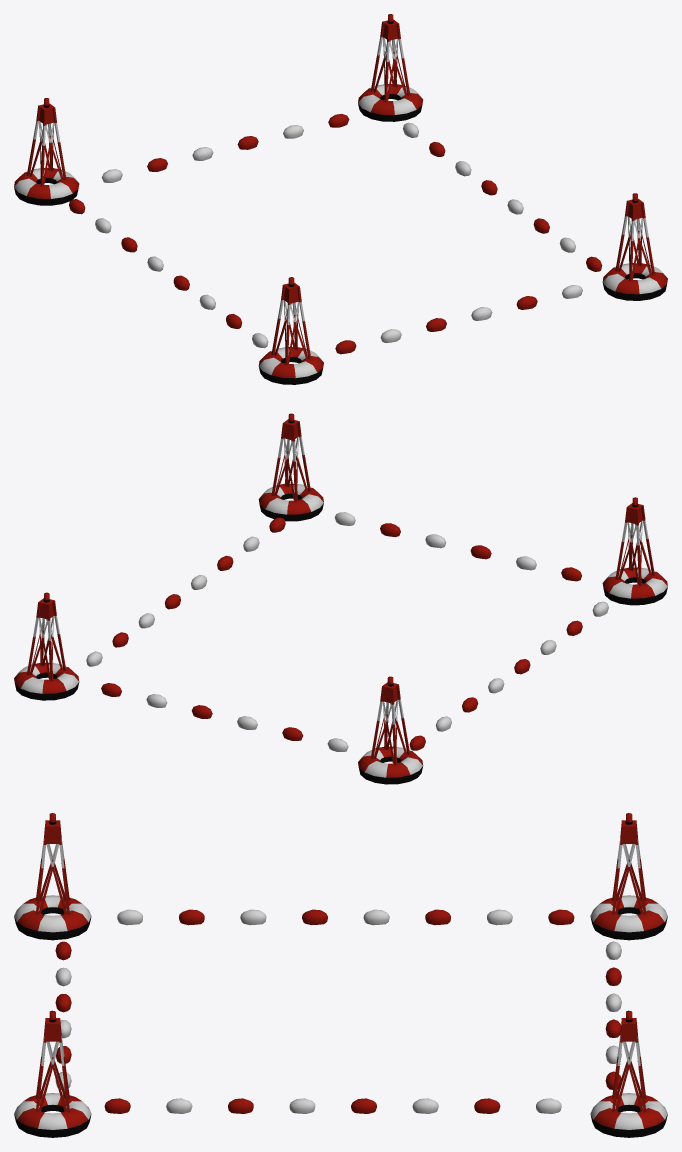
Rendered from ShipArena.obj.
The picture shows the model from 3 angles, top to bottom: view 1: azimuth 30°, elevation 25°; view 2: azimuth 150°, elevation 25°; view 3: azimuth 270°, elevation 25°; orthographic projection. The views are drawn at different scales.
Visible parts, largest first — view 1: Cylinder.024; view 2: Cylinder.024; view 3: Cylinder.024.
Boxes of the visible parts, box(x1,y1,x2,y2) form: Cylinder.024: box(14, 14, 667, 384); Cylinder.024: box(14, 413, 667, 784); Cylinder.024: box(14, 813, 667, 1137).
Size of the model in its own units: 20.36 by 4.54 by 24.42.
